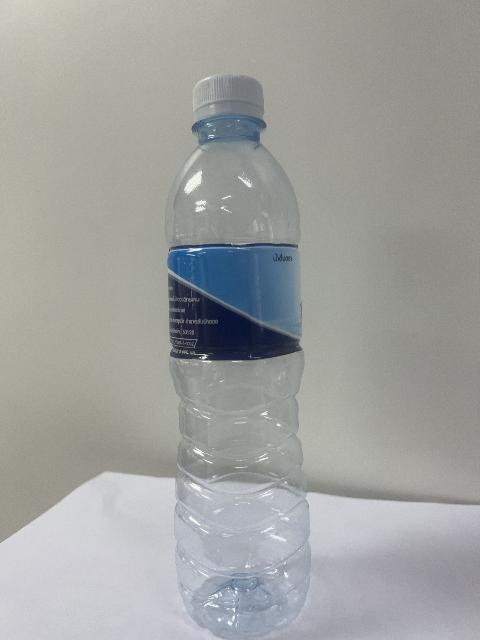bottle: (166, 75, 310, 638)
